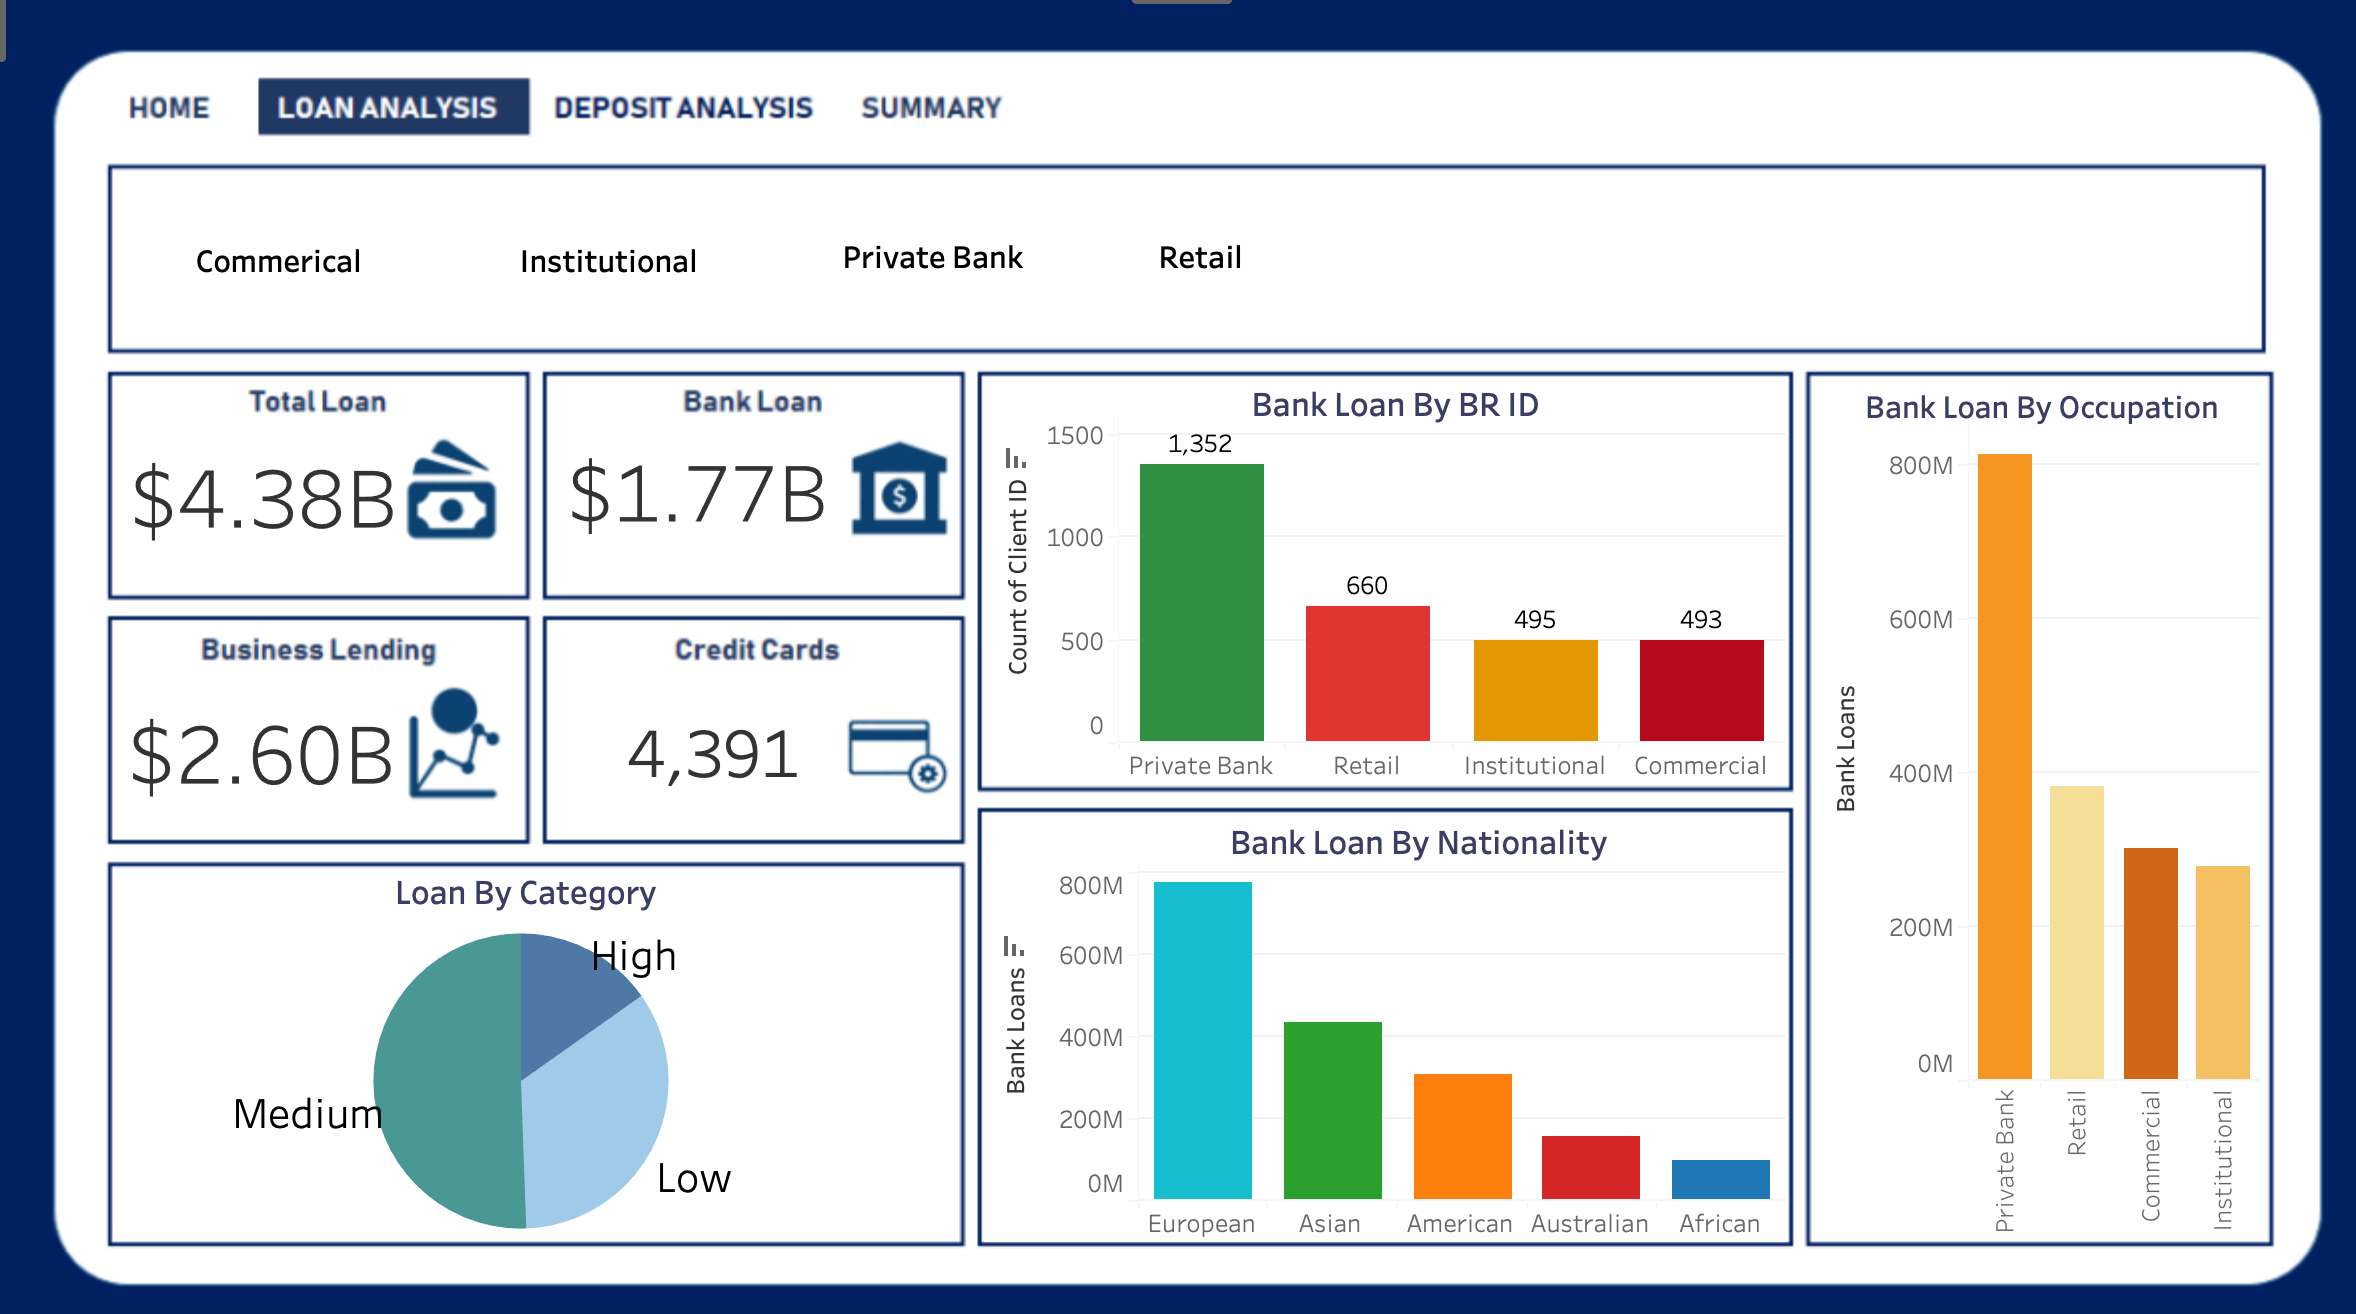

The dashboard page shown, as its layout file describes it:
{"tool":"tableau","page":{"name":"Loan","canvas":[1000,1000],"units":"permille","ordinal":2},"visuals":[{"type":"image","param":"Image/Loan Analysis_CANVA_TEMPLATE.png","box":[0.8,6.8,990.1,951.4]},{"type":"image","param":"Image/Loan Analysis.png","box":[6.3,10.8,987.4,978.4]},{"type":"text","box":[333.6,146,129.4,101.4]},{"type":"text","box":[442.6,146,129.4,101.4]},{"type":"text","box":[67.5,148.7,129.4,101.4]},{"type":"text","box":[201.8,148.7,129.4,101.4]},{"type":"text","box":[504.5,275.7,164.4,40.5]},{"type":"text","box":[775.4,277,148.9,40.5]},{"type":"worksheet","title":"BRI_ID_CHRT","mark":"Automatic","rows":["Client ID"],"cols":["BRID"],"box":[416.9,308.1,325.4,248.7]},{"type":"worksheet","title":"BNK_OCC","mark":"Automatic","rows":["Bank Loans"],"cols":["BRID"],"box":[756.7,308.1,181.5,552.7]},{"type":"worksheet","title":"BNK_LOAN","mark":"Automatic","box":[242.5,313.5,120.4,79.7]},{"type":"worksheet","title":"T_loan","mark":"Automatic","box":[63,324.3,115,67.6]},{"type":"worksheet","title":"TOTAL_CC","mark":"Automatic","box":[248.2,489.2,108.8,90.5]},{"type":"worksheet","title":"BUSS_LENDG","mark":"Automatic","box":[66.7,493.2,117.2,74.3]},{"type":"text","box":[516.9,574.3,158.4,40.5]},{"type":"text","box":[160.9,609.5,143.7,40.5]},{"type":"worksheet","title":"Loan_NATL","mark":"Bar","rows":["Bank Loans"],"cols":["Nationality"],"box":[415.3,609.5,326.2,254.1]},{"type":"worksheet","title":"INC_CATE","mark":"Pie","box":[112.3,646,236.8,214.9]}]}

Visuals, with their boxes on the dashboard's canvas, which has no fixed pixel size, in thousandths of its width and height (x1, y1, x2, y2). These are canvas units, not pixel positions in the 2356x1314 screenshot, which may show the page scaled, cropped or inside an application window:
image: 1 7 991 958
image: 6 11 994 989
text: 334 146 463 247
text: 443 146 572 247
text: 68 149 197 250
text: 202 149 331 250
text: 504 276 669 316
text: 775 277 924 318
"BRI_ID_CHRT" worksheet: 417 308 742 557
"BNK_OCC" worksheet: 757 308 938 861
"BNK_LOAN" worksheet: 242 314 363 393
"T_loan" worksheet: 63 324 178 392
"TOTAL_CC" worksheet: 248 489 357 580
"BUSS_LENDG" worksheet: 67 493 184 568
text: 517 574 675 615
text: 161 610 305 650
"Loan_NATL" worksheet (Bar marks): 415 610 742 864
"INC_CATE" worksheet (Pie marks): 112 646 349 861
